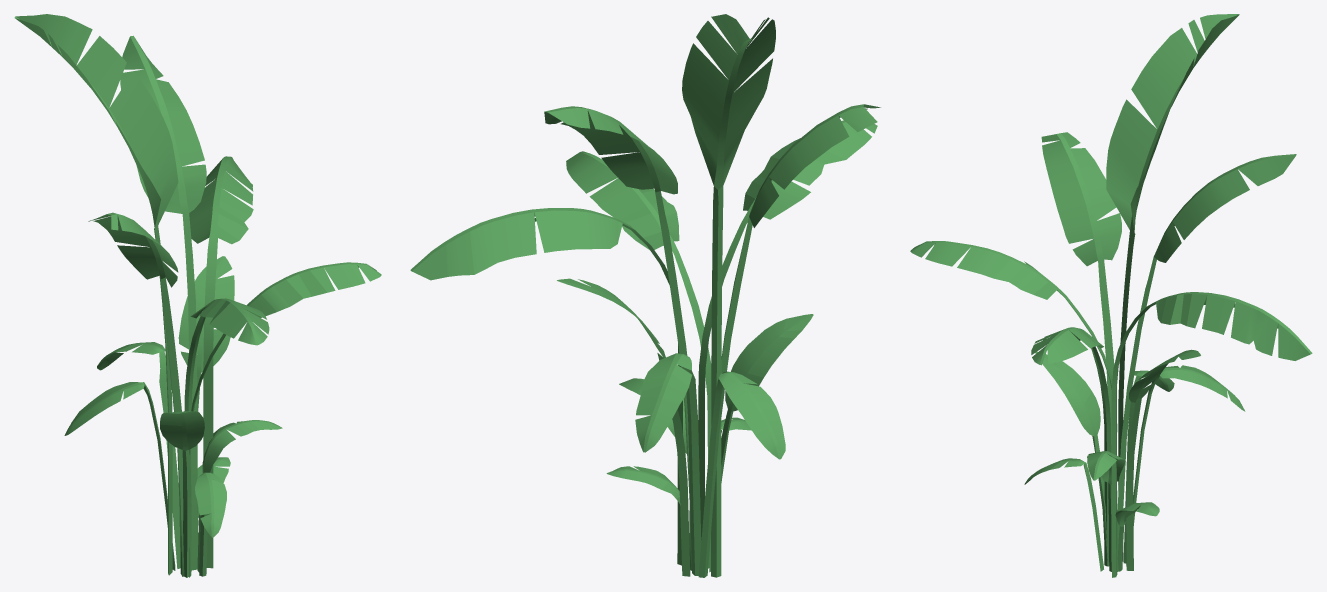
Rendered from plant_palm_A.fbx.
3 renders of one model, left to right at view 1: azimuth 30°, elevation 25°; view 2: azimuth 150°, elevation 25°; view 3: azimuth 270°, elevation 25°, orthographic. The views are drawn at different scales.
Parts seen in each view (by area): view 1: plant_palm_A; view 2: plant_palm_A; view 3: plant_palm_A.
Part boxes in pixels (x1,y1,x2,y2): plant_palm_A: (14,14,381,577); plant_palm_A: (410,14,880,577); plant_palm_A: (910,14,1312,577).
Bounding box in the file's own units: 155 × 285 × 205.
